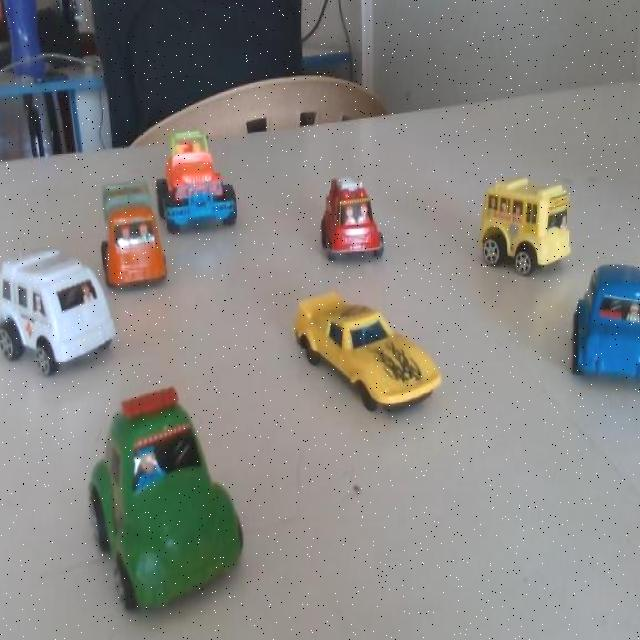car: (71, 396, 236, 594), (284, 278, 446, 427), (0, 230, 117, 389), (469, 174, 566, 284), (92, 167, 167, 299), (159, 120, 248, 231), (571, 261, 640, 390), (307, 166, 383, 275)
